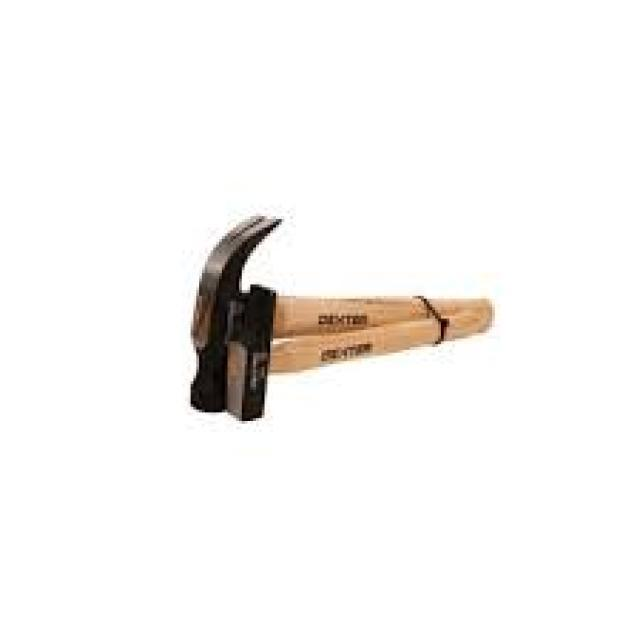Palu: (166, 210, 506, 440)
